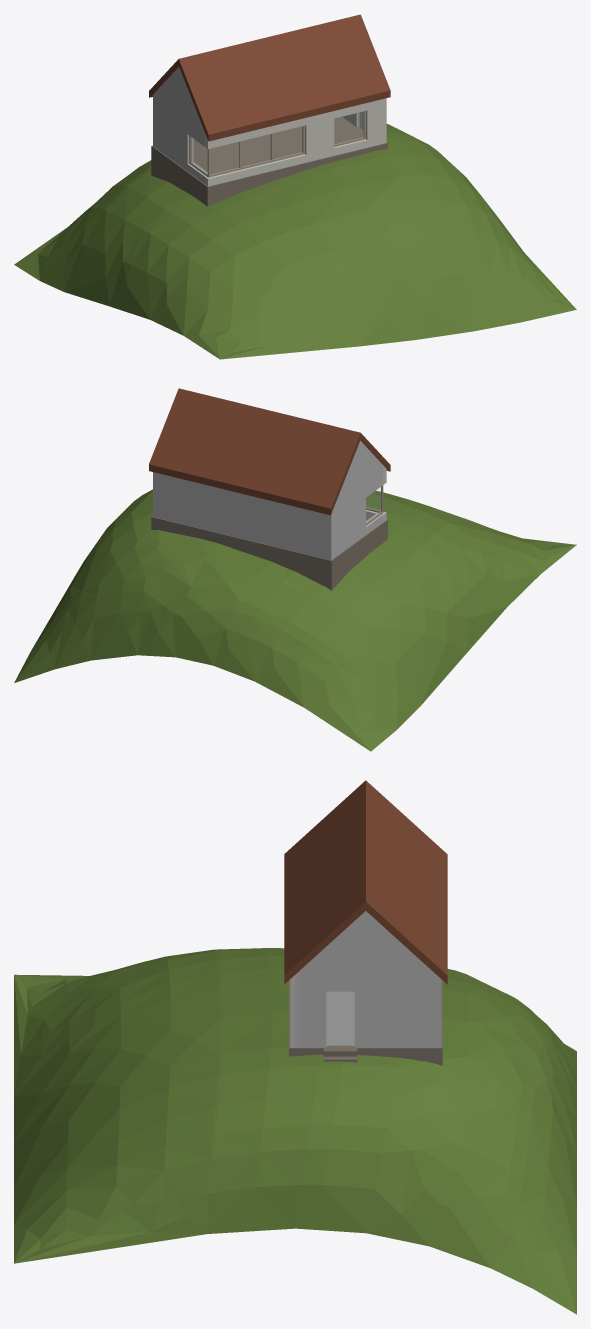
The picture shows the model from 3 angles, top to bottom: view 1: azimuth 30°, elevation 25°; view 2: azimuth 150°, elevation 25°; view 3: azimuth 270°, elevation 25°; orthographic projection. The views are drawn at different scales.
Visible parts, largest first — view 1: 0GNruBn012euT0V4j1zNbY, 1OkhcYSJv5nB5Ye2gD90ix, 0WILkkrrn0ivmOkgqqAb$R, 38MvAlC2H7RhTum1r0FJFg, 15HQrV8WX2nud_EOSSfoGz; view 2: 0GNruBn012euT0V4j1zNbY, 0ZIj0vhLbDIBzLVO1s0S3q, 2dSmIsY2j10OJaUd5RmL3e, 0WILkkrrn0ivmOkgqqAb$R, 15HQrV8WX2nud_EOSSfoGz; view 3: 0GNruBn012euT0V4j1zNbY, 2XjjioqkD00gotrGmqpPnw, 0ZIj0vhLbDIBzLVO1s0S3q, 1OkhcYSJv5nB5Ye2gD90ix, 0WILkkrrn0ivmOkgqqAb$R, 24WV2H7cb3MgDzwgWj1b8X.
Part boxes in pixels (x1,y1,x2,y2): 0GNruBn012euT0V4j1zNbY: (14,124,576,359); 1OkhcYSJv5nB5Ye2gD90ix: (178,14,390,141); 0WILkkrrn0ivmOkgqqAb$R: (151,117,387,206); 38MvAlC2H7RhTum1r0FJFg: (204,98,386,186); 15HQrV8WX2nud_EOSSfoGz: (156,67,207,183); 0GNruBn012euT0V4j1zNbY: (14,489,576,751); 0ZIj0vhLbDIBzLVO1s0S3q: (149,388,360,515); 2dSmIsY2j10OJaUd5RmL3e: (153,472,334,560); 0WILkkrrn0ivmOkgqqAb$R: (151,516,387,590); 15HQrV8WX2nud_EOSSfoGz: (335,441,384,557); 0GNruBn012euT0V4j1zNbY: (14,948,576,1314); 2XjjioqkD00gotrGmqpPnw: (295,911,436,1047); 0ZIj0vhLbDIBzLVO1s0S3q: (366,780,447,984); 1OkhcYSJv5nB5Ye2gD90ix: (284,780,365,984); 0WILkkrrn0ivmOkgqqAb$R: (289,979,442,1065); 24WV2H7cb3MgDzwgWj1b8X: (326,991,354,1045).
Size of the model in its own units: 20 by 13.91 by 20.
